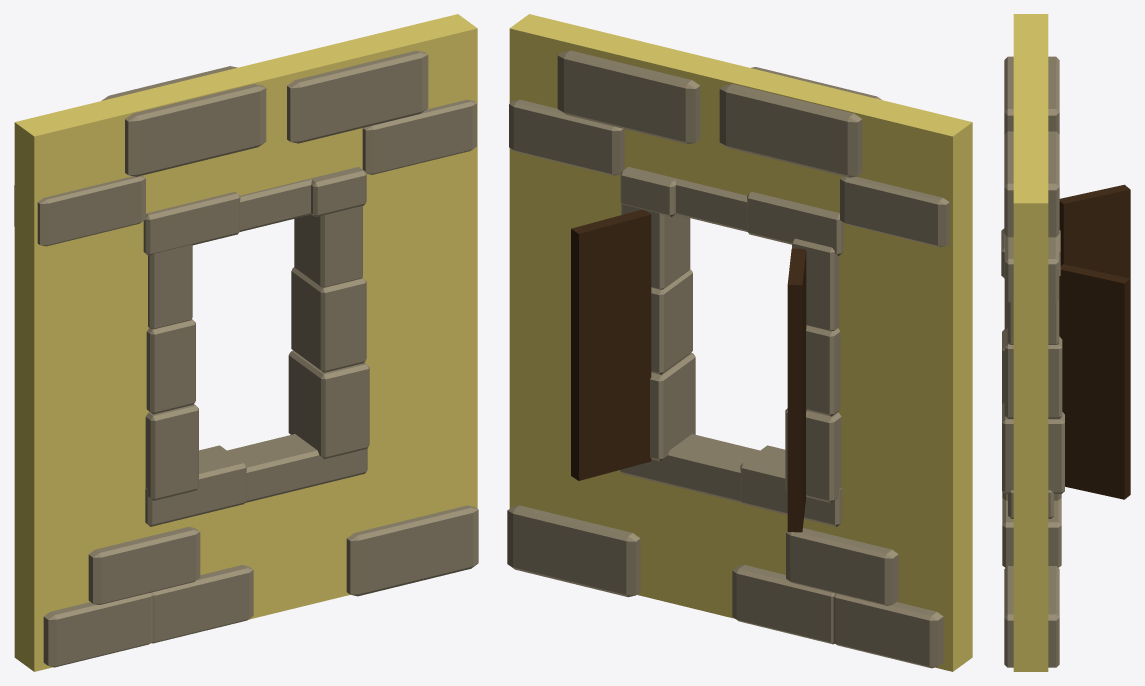
Rendered from house-window.glb.
The picture shows the model from 3 angles, left to right: view 1: azimuth 30°, elevation 25°; view 2: azimuth 150°, elevation 25°; view 3: azimuth 270°, elevation 25°; orthographic projection. The views are drawn at different scales.
Parts seen in each view (by area): view 1: Window_01_Cube.001; view 2: Window_01_Cube.001; view 3: Window_01_Cube.001.
Boxes of the visible parts, x1,y1,x2,y2 form: Window_01_Cube.001: (14,14,478,671); Window_01_Cube.001: (507,14,972,671); Window_01_Cube.001: (1001,14,1130,671).
Bounding box in the file's own units: 2.6 × 3 × 0.7488.
